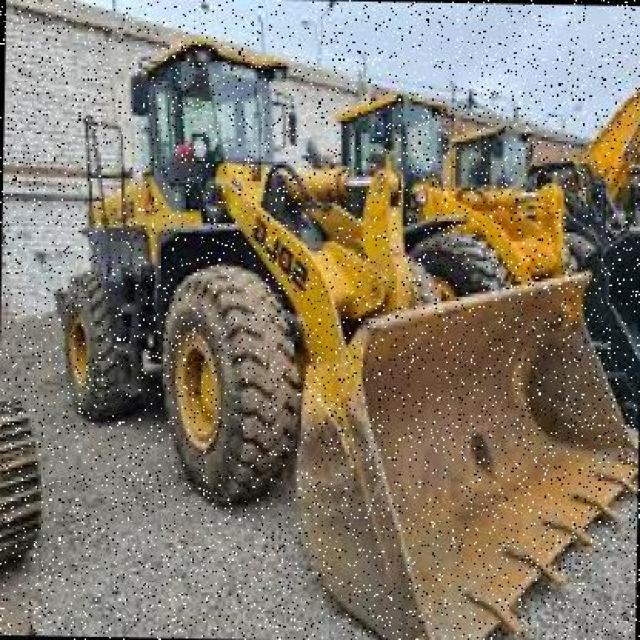buldozerpayloadergrader: (44, 23, 640, 640)
